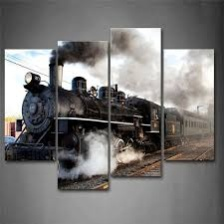smoke: (113, 30, 159, 79), (174, 48, 211, 100), (58, 43, 108, 70), (83, 134, 104, 181)
